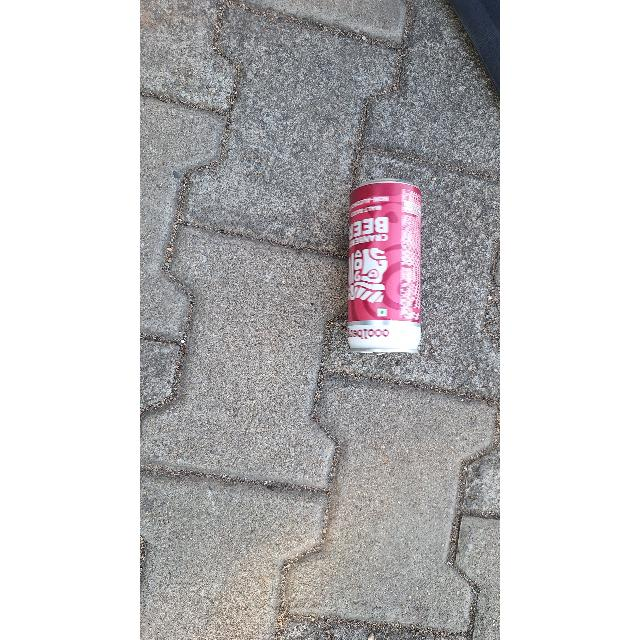Coolberg: (346, 182, 418, 354)
